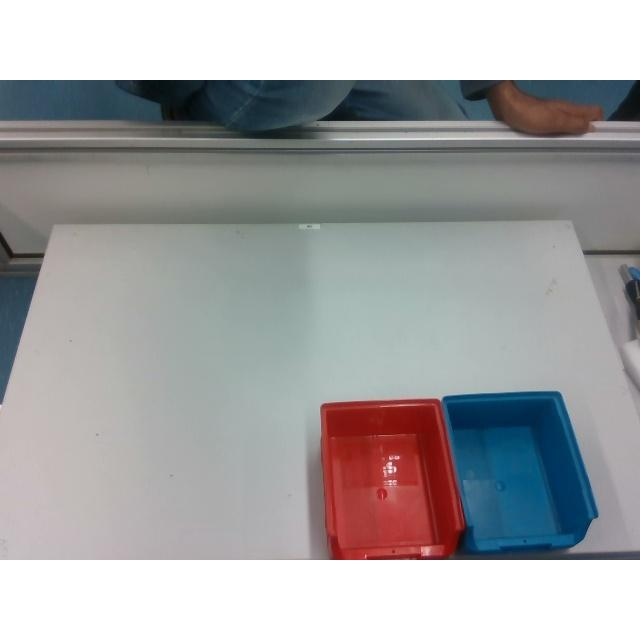container_box_blue: (444, 393, 596, 551)
container_box_red: (321, 398, 464, 558)
